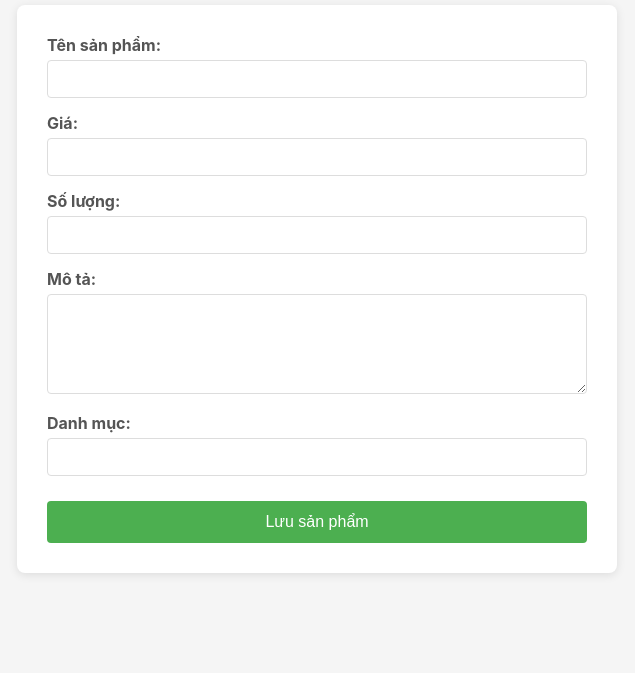
Test: ProductForm Component Integration Tests › Create Product › TC2: Hiển thị lỗi validation khi tạo sản phẩm
Submit form rỗng
Click the button with test id "submit-button". click: (317, 522)
box: x1=47 y1=501 x2=587 y2=543
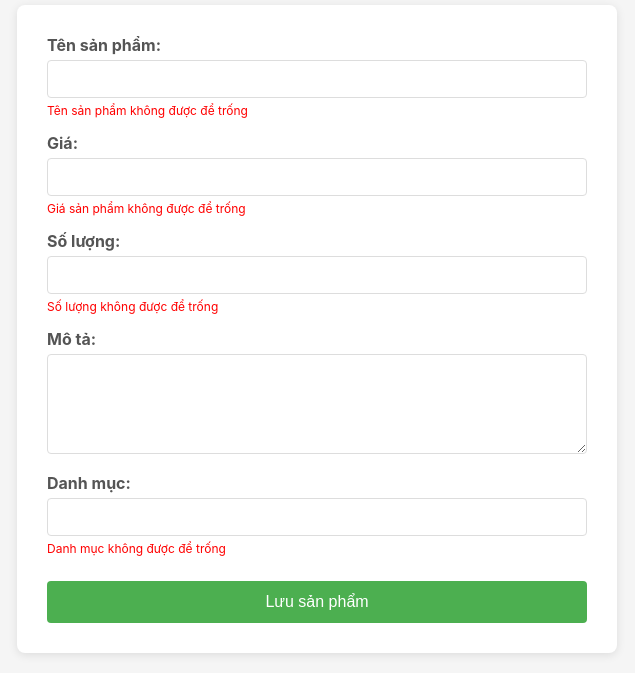
Check: the text "Tên sản phẩm không được để trống" is shown, box x1=47 y1=103 x2=248 y2=118
Check: the text "Giá sản phẩm không được để trống" is shown, box x1=47 y1=201 x2=246 y2=216
Check: the text "Danh mục không được để trống" is shown, box x1=47 y1=541 x2=226 y2=556
